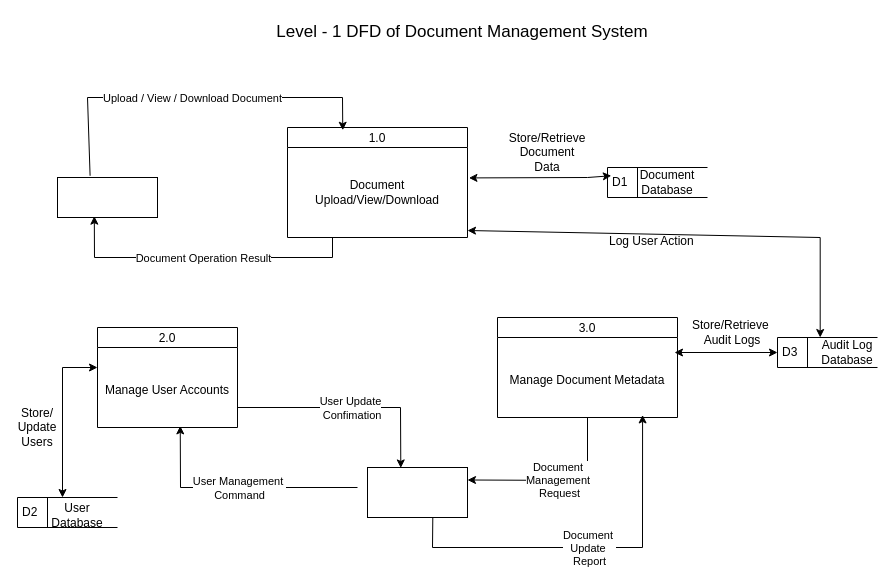
The diagram is 895 pixels wide and 585 high, and some of its shapes have lost their labels. The shapes that lost their labels are listed below. From the top down, each one's centre as x and y in pixels, then its label:
At (107,197): "User".
At (417,492): "Admin".
